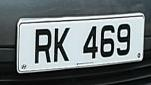4: (81, 23, 100, 62)
6: (99, 22, 116, 62)
9: (116, 20, 133, 60)
K: (52, 24, 73, 68)
R: (31, 24, 54, 69)
